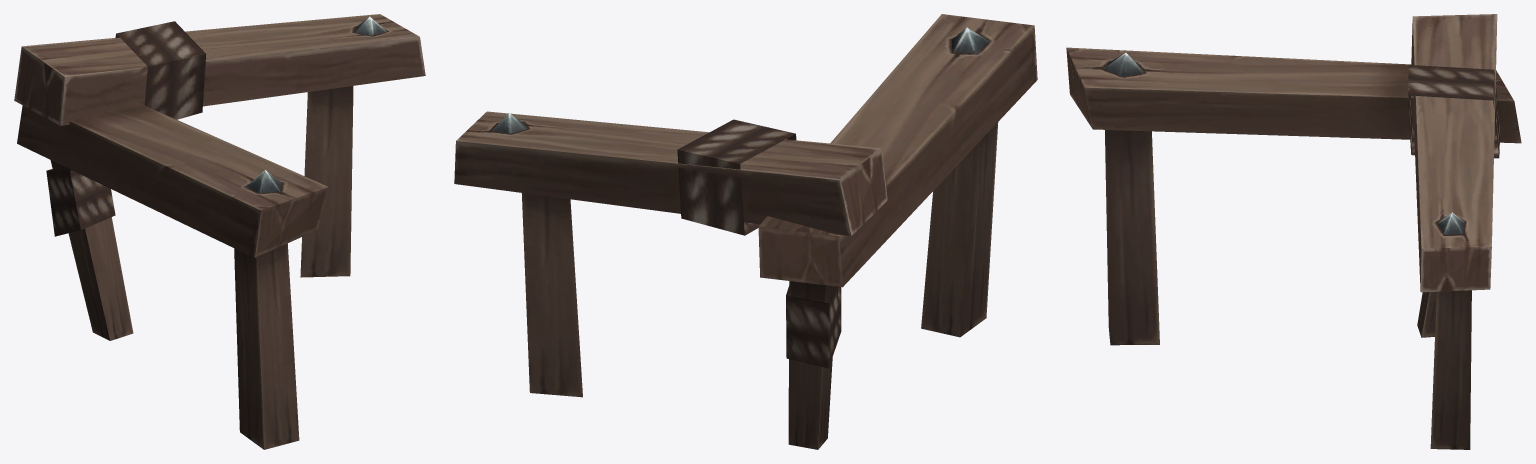
The model's file is bandit_railing_01.fbx.
The picture shows the model from 3 angles, left to right: view 1: azimuth 30°, elevation 25°; view 2: azimuth 150°, elevation 25°; view 3: azimuth 270°, elevation 25°; orthographic projection. The views are drawn at different scales.
Visible parts, largest first — view 1: obj0.701; view 2: obj0.701; view 3: obj0.701.
Part boxes in pixels (x1=…): obj0.701: x1=14, y1=14, x2=425, y2=449; obj0.701: x1=454, y1=14, x2=1037, y2=449; obj0.701: x1=1066, y1=14, x2=1521, y2=449.
Bounding box in the file's own units: 2.43 × 1.72 × 2.48.
